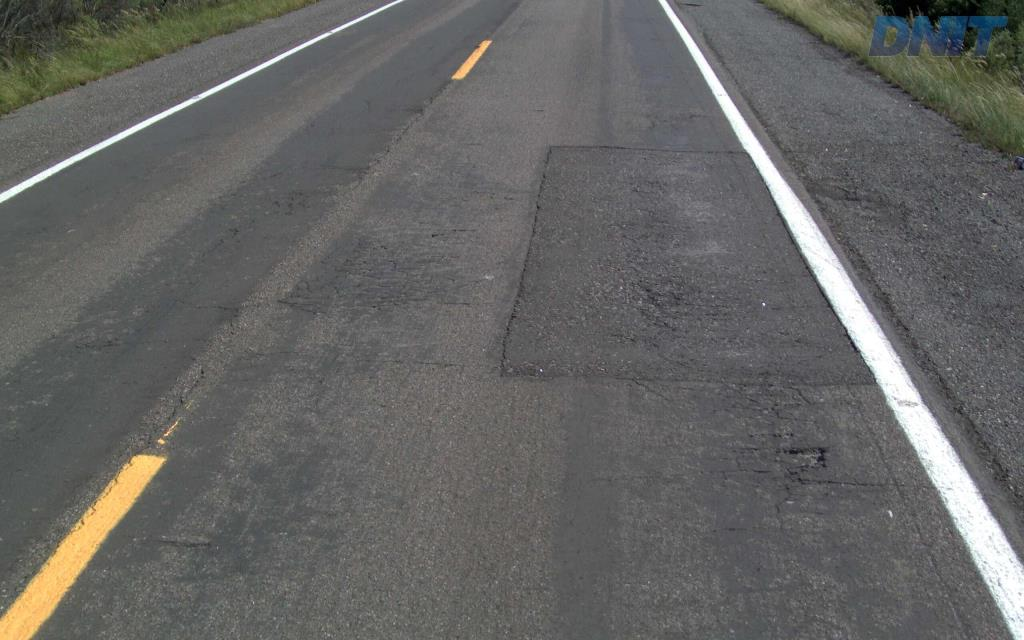crack: (782, 446, 827, 469)
